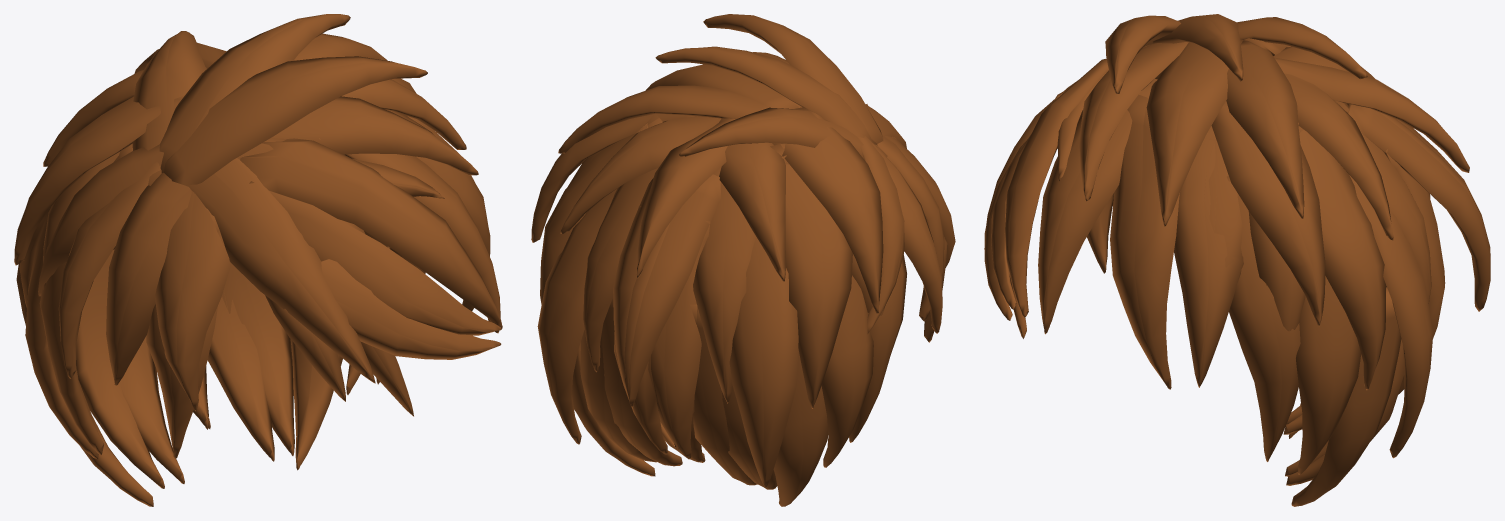
The model's file is Hair_M.fbx.
3 renders of one model, left to right at view 1: azimuth 30°, elevation 25°; view 2: azimuth 150°, elevation 25°; view 3: azimuth 270°, elevation 25°, orthographic. The views are drawn at different scales.
Parts seen in each view (by area): view 1: Hair_M; view 2: Hair_M; view 3: Hair_M.
Boxes of the visible parts, x1=… form: Hair_M: x1=14, y1=14, x2=502, y2=506; Hair_M: x1=531, y1=14, x2=955, y2=506; Hair_M: x1=984, y1=14, x2=1490, y2=506.
Bounding box in the file's own units: 82.62 × 89.39 × 89.87.
Materials: 1 (1 with a texture image).
